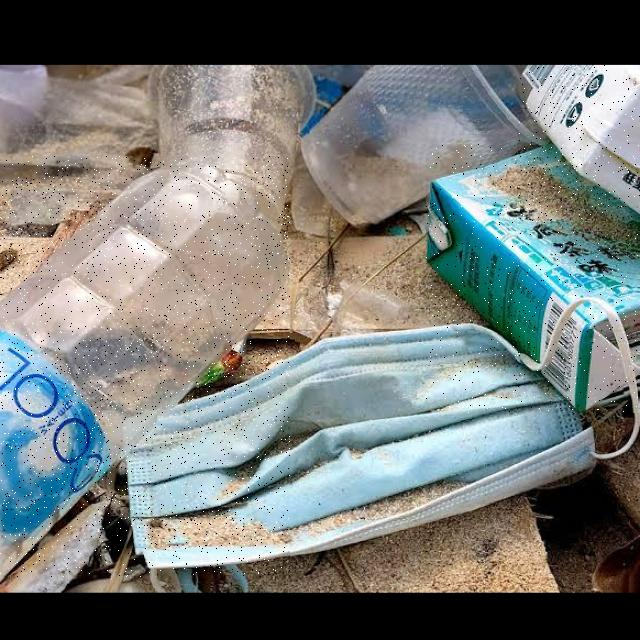paper: (426, 143, 639, 413), (519, 65, 640, 216)
plastic: (0, 156, 290, 577)
